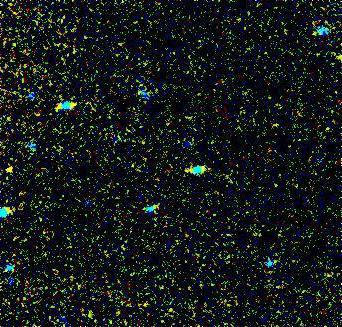star: (0, 154, 22, 184)
